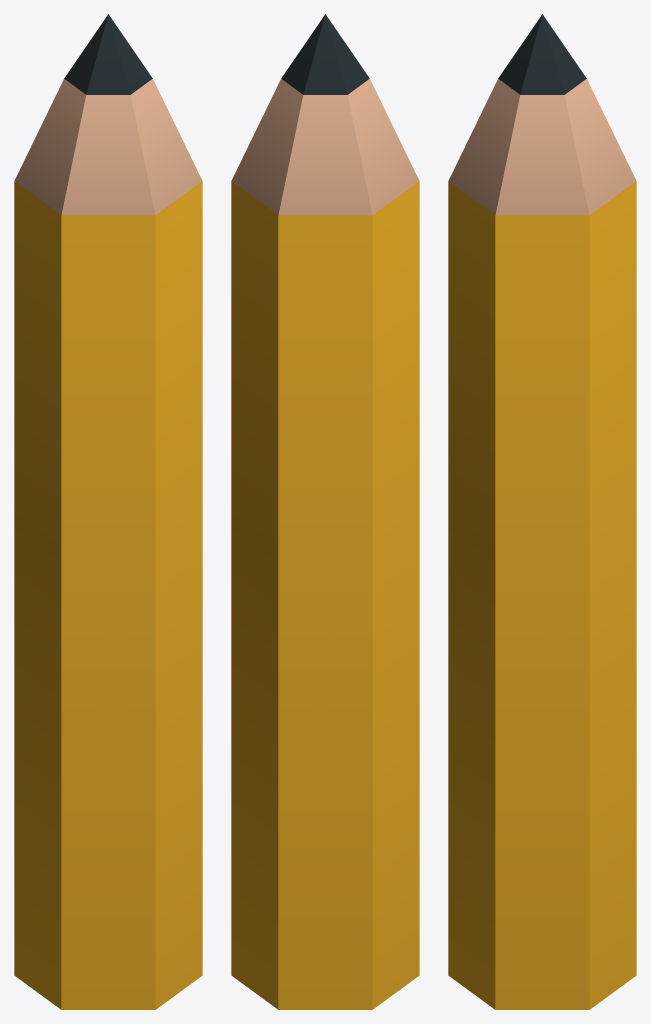
Rendered from pencil.gltf.glb.
3 renders of one model, left to right at view 1: azimuth 30°, elevation 25°; view 2: azimuth 150°, elevation 25°; view 3: azimuth 270°, elevation 25°, orthographic.
Parts seen in each view (by area): view 1: pencil; view 2: pencil; view 3: pencil.
Boxes of the visible parts, x1=… form: pencil: x1=14, y1=14, x2=202, y2=1009; pencil: x1=231, y1=14, x2=419, y2=1009; pencil: x1=448, y1=14, x2=636, y2=1009.
Bounding box in the file's own units: 0.0667 × 0.4398 × 0.077.
